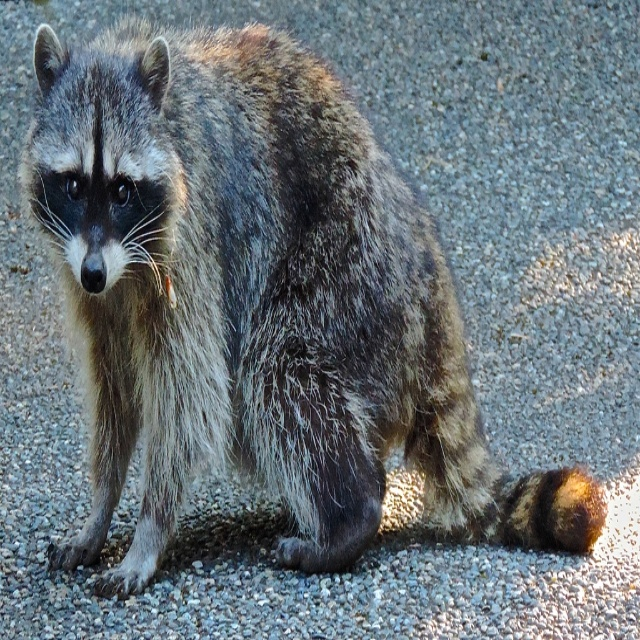Raccoon: (18, 9, 604, 602)
